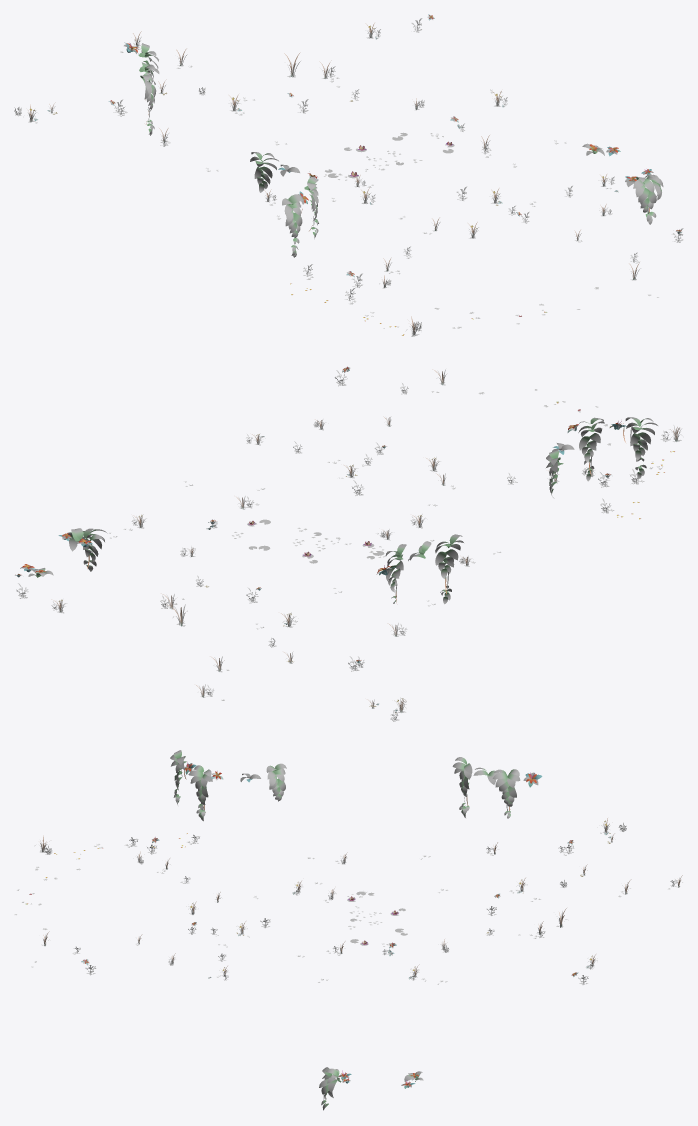
The model's file is MSH_ENV_GateArena_Plants.FBX.
The picture shows the model from 3 angles, top to bottom: view 1: azimuth 30°, elevation 25°; view 2: azimuth 150°, elevation 25°; view 3: azimuth 270°, elevation 25°; orthographic projection. The views are drawn at different scales.
Visible parts, largest first — view 1: ENV_GateArena_Plants; view 2: ENV_GateArena_Plants; view 3: ENV_GateArena_Plants.
Part boxes in pixels (x1=…): ENV_GateArena_Plants: x1=14, y1=14, x2=683, y2=336; ENV_GateArena_Plants: x1=15, y1=366, x2=683, y2=721; ENV_GateArena_Plants: x1=14, y1=750, x2=682, y2=1110.
Size of the model in its own units: 35.28 by 13.81 by 48.53.
